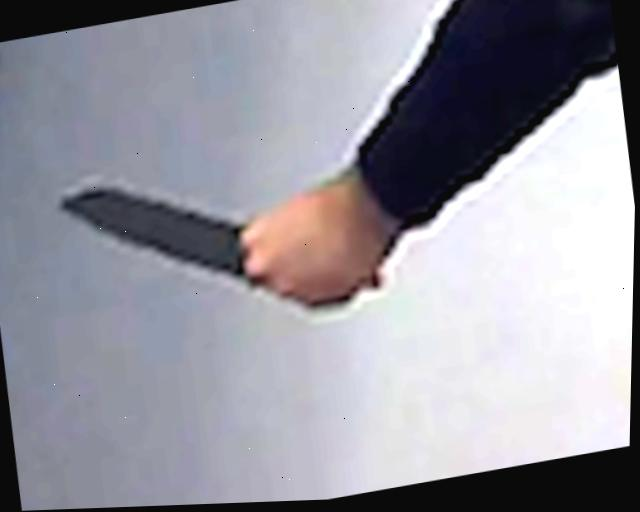long knife: (45, 128, 390, 354)
